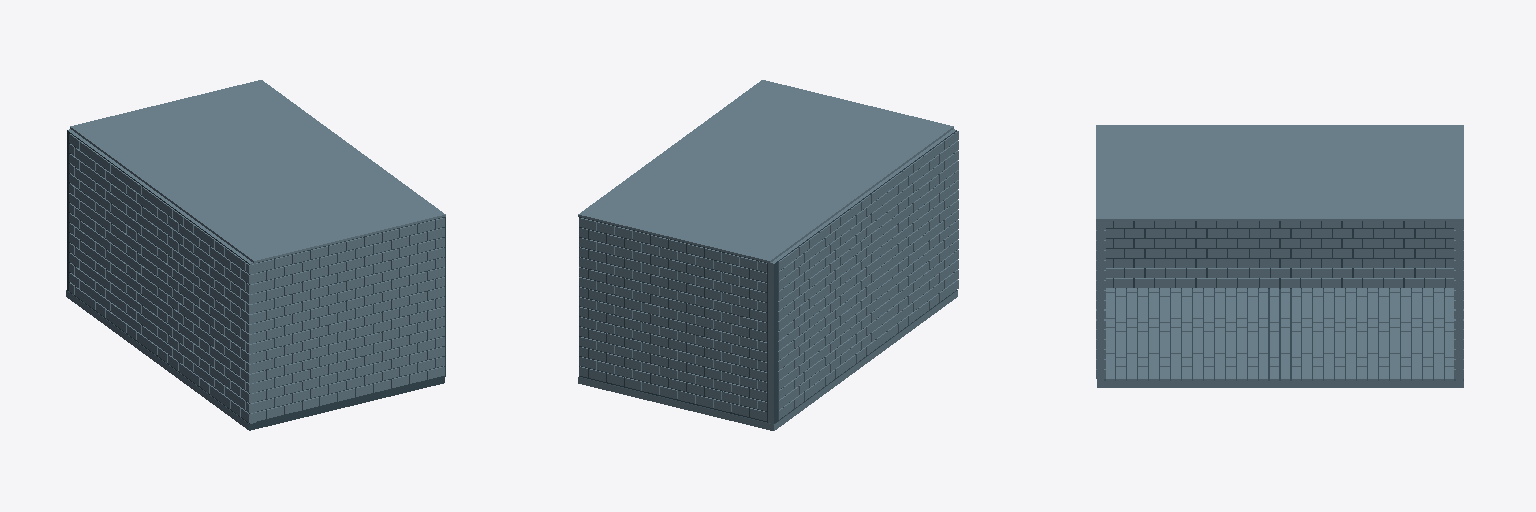
The picture shows the model from 3 angles: view 1: azimuth 30°, elevation 25°; view 2: azimuth 150°, elevation 25°; view 3: azimuth 270°, elevation 25°; orthographic projection.
Parts seen in each view (by area): view 1: group[number redacted], group[number redacted], group[number redacted], group[number redacted], group[number redacted]; view 2: group[number redacted], group[number redacted], group[number redacted], group[number redacted], group[number redacted]; view 3: group[number redacted], group[number redacted], group[number redacted], group[number redacted], group[number redacted], group[number redacted].
Boxes of the visible parts, x1,y1,x2,y2 form: group[number redacted]: [70, 80, 445, 262]; group[number redacted]: [158, 217, 445, 430]; group[number redacted]: [67, 129, 178, 371]; group[number redacted]: [66, 290, 157, 363]; group[number redacted]: [174, 207, 255, 423]; group[number redacted]: [578, 80, 953, 262]; group[number redacted]: [579, 217, 767, 422]; group[number redacted]: [768, 182, 886, 423]; group[number redacted]: [578, 357, 865, 430]; group[number redacted]: [866, 290, 957, 363]; group[number redacted]: [1096, 125, 1463, 220]; group[number redacted]: [1096, 221, 1280, 387]; group[number redacted]: [1248, 221, 1453, 288]; group[number redacted]: [1281, 289, 1463, 387]; group[number redacted]: [1454, 221, 1463, 380]; group[number redacted]: [1106, 221, 1248, 288].
Bounding box in the file's own units: 1.88 × 1.54 × 3.03.